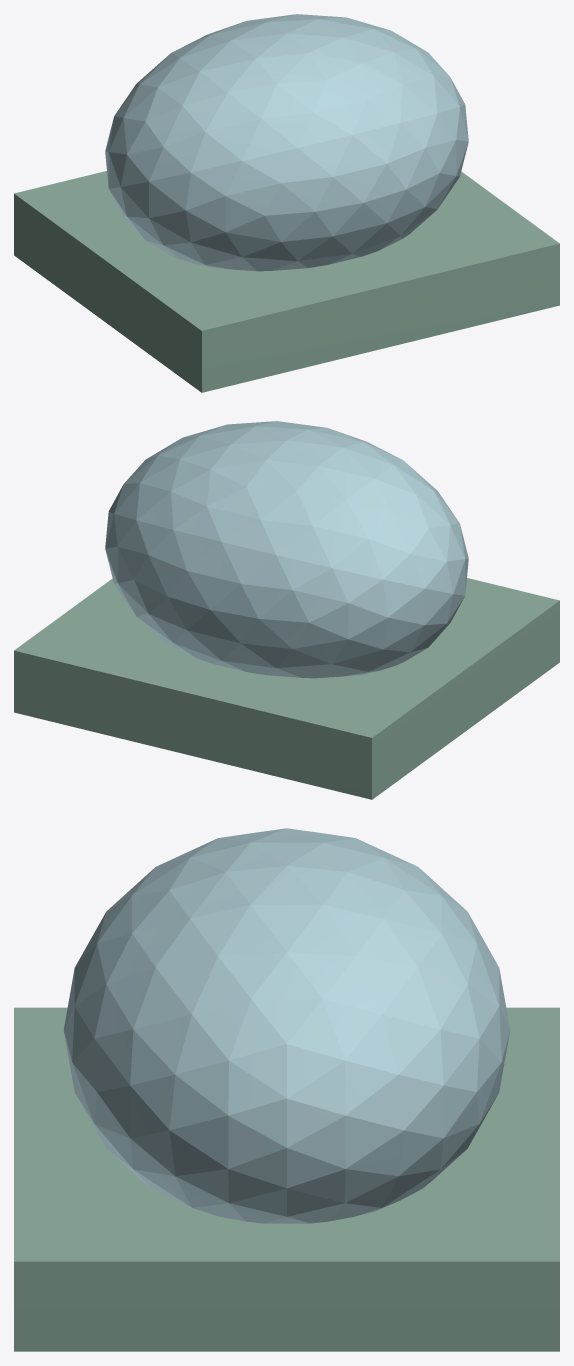
Rendered from observatory-02.glb.
3 renders of one model, top to bottom at view 1: azimuth 30°, elevation 25°; view 2: azimuth 150°, elevation 25°; view 3: azimuth 270°, elevation 25°, orthographic. The views are drawn at different scales.
Visible parts, largest first — view 1: world; view 2: world; view 3: world.
Part boxes in pixels (<box>): world: <box>14,14,559,392</box>; world: <box>14,421,559,799</box>; world: <box>14,828,559,1351</box>.
Bounding box in the file's own units: 1.21 × 0.798 × 1.1.
